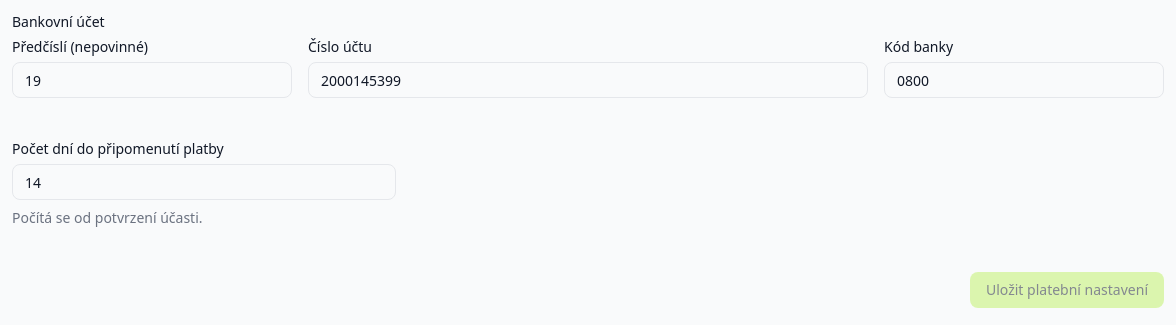
Test: PaymentSettingsForm › rejects 1.5 reminder days
Replace the text in the field labelled "Počet dní do připomenutí platby" with "1.5" at [204, 182], box x1=12 y1=164 x2=396 y2=200
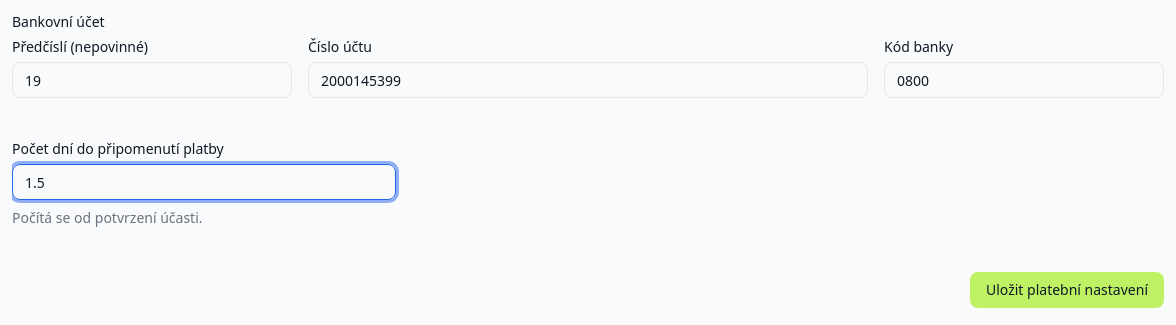
Click the button "Uložit platební nastavení" at [1067, 290], box x1=970 y1=272 x2=1164 y2=308
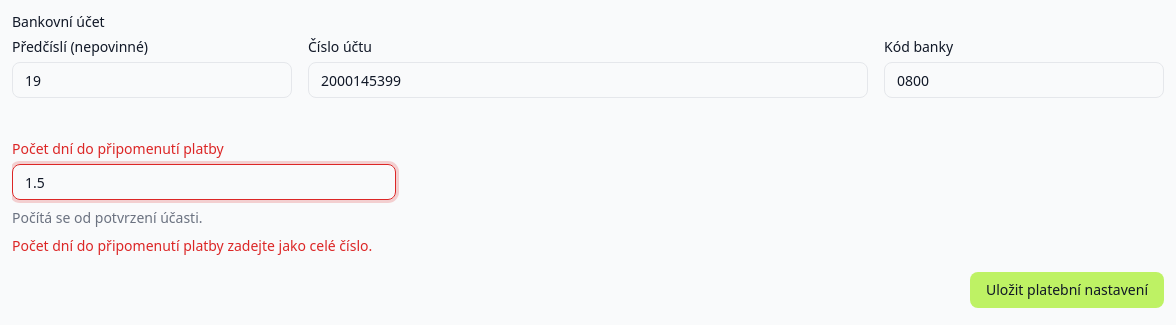
Now the text "Počet dní do připomenutí platby zadejte jako celé číslo." is shown, box x1=12 y1=236 x2=396 y2=256
